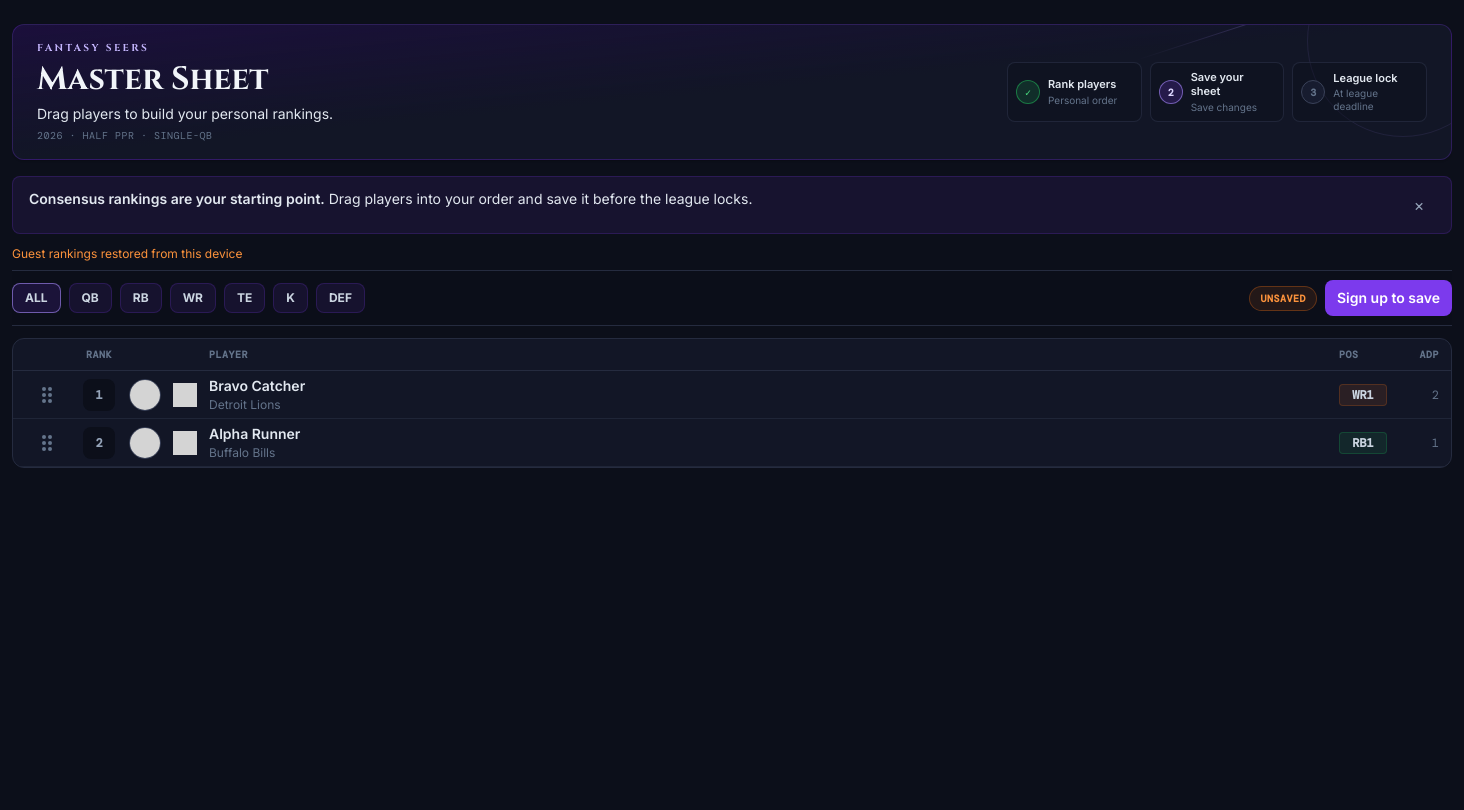
Test: MasterSheetPage › for guests › then signs in › does not save guest rankings into a board with a different format
Expected: the text "Guest rankings restored from this device" is shown, x1=12 y1=246 x2=242 y2=261
Click the button "Sign up to save". click: point(1388, 298)
box: x1=1325 y1=280 x2=1452 y2=316
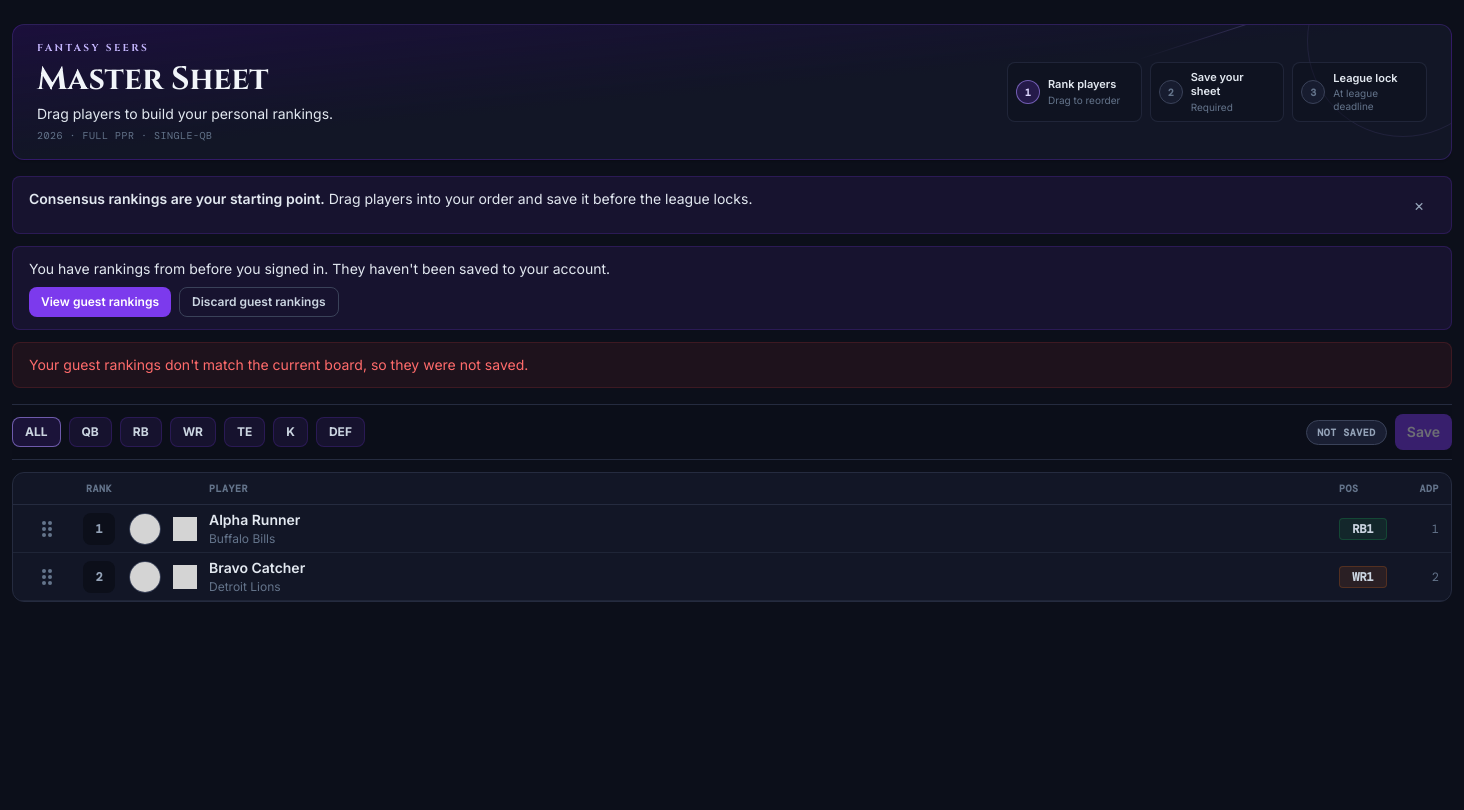
Expected: the text "don't match the current board" is shown, x1=29 y1=356 x2=528 y2=373
